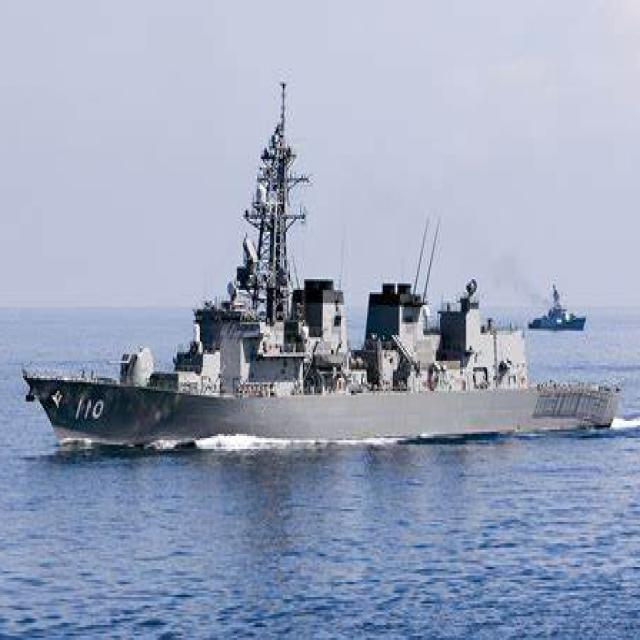navalvessels: (6, 120, 625, 480), (521, 258, 594, 339)
